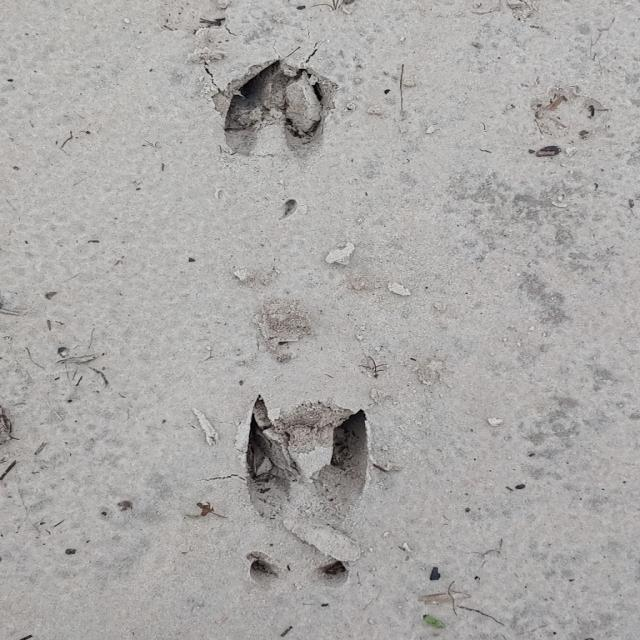deer: (245, 396, 370, 526), (230, 65, 332, 155)
